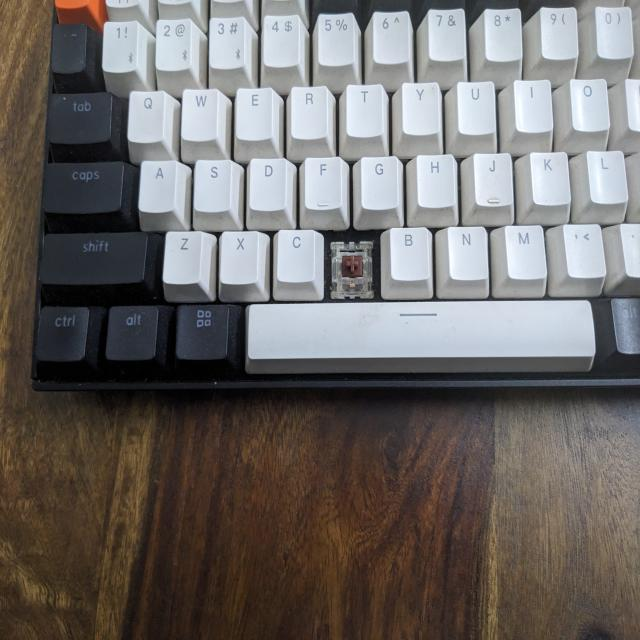C: (328, 237, 375, 298)
